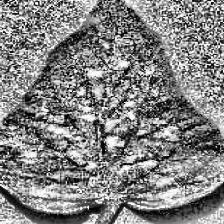spider mites: (0, 0, 224, 211)
